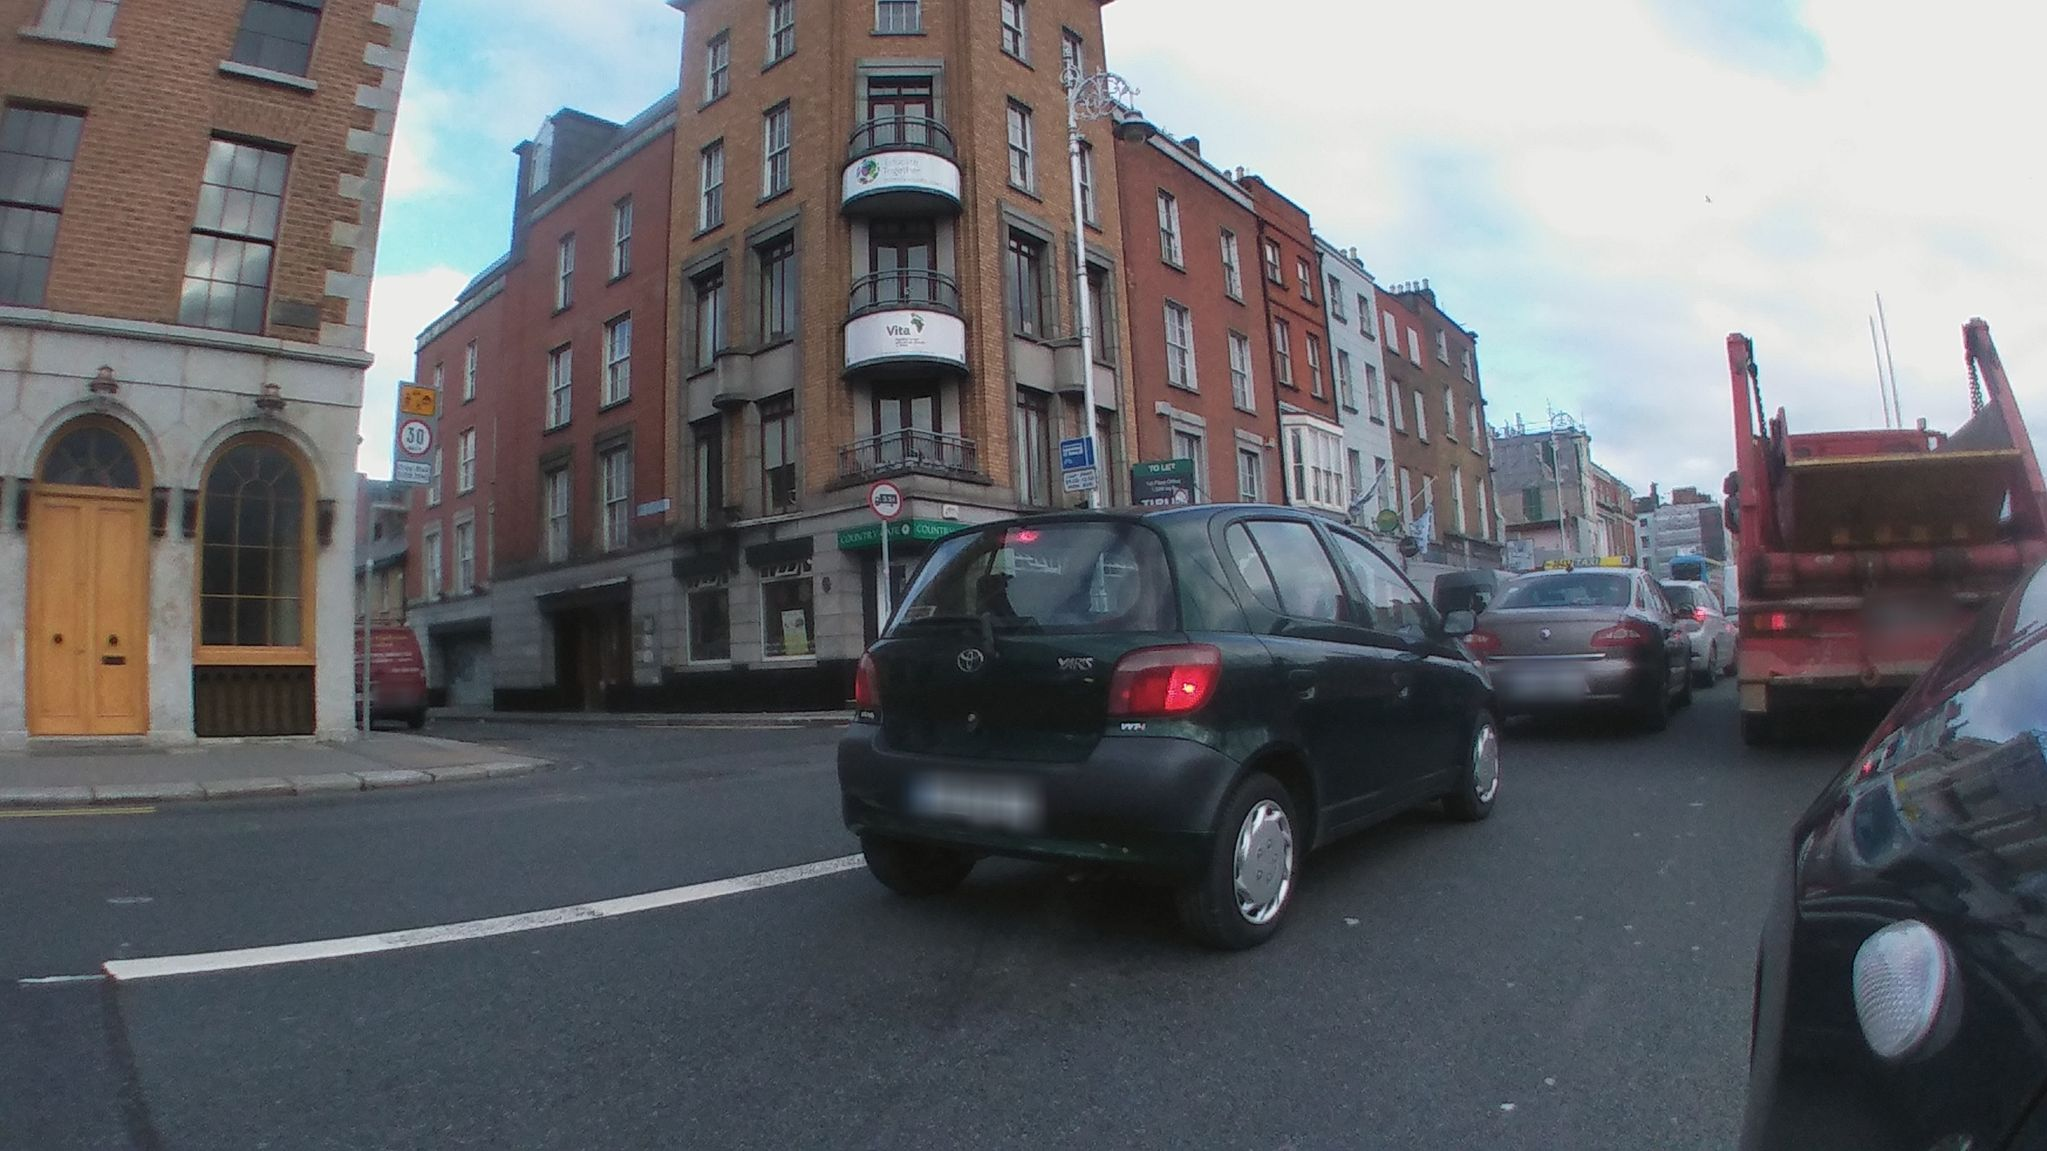property sign: (1133, 438, 1213, 521)
